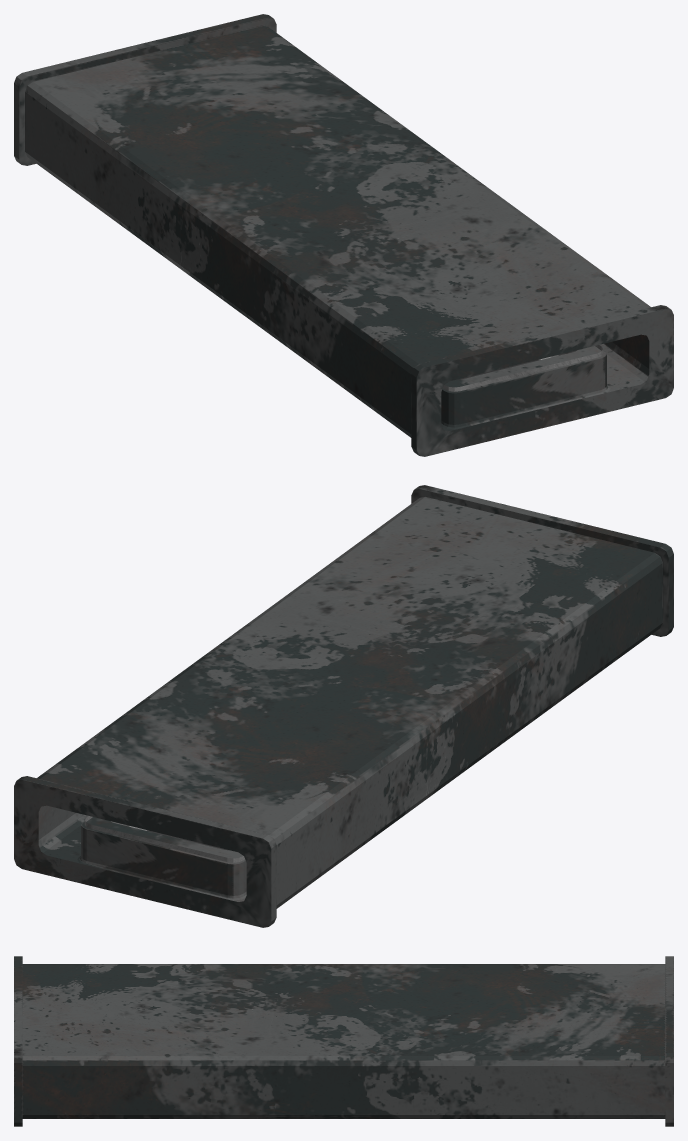
The model's file is Vent1.fbx.
3 renders of one model, top to bottom at view 1: azimuth 30°, elevation 25°; view 2: azimuth 150°, elevation 25°; view 3: azimuth 270°, elevation 25°, orthographic. The views are drawn at different scales.
Visible parts, largest first — view 1: Vent; view 2: Vent; view 3: Vent.
Boxes of the visible parts, x1=… form: Vent: x1=14, y1=14, x2=673, y2=456; Vent: x1=14, y1=485, x2=673, y2=927; Vent: x1=14, y1=956, x2=673, y2=1126.
Bounding box in the file's own units: 846 × 281 × 2295.
1 material, 1 textured.
